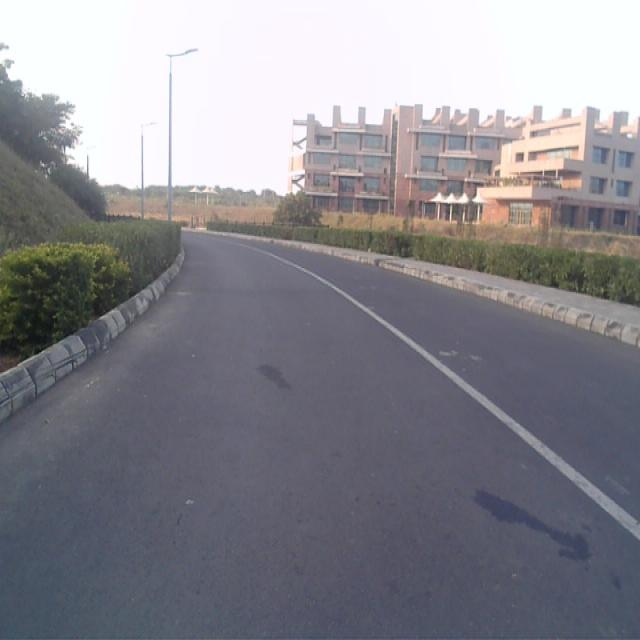lane: (0, 233, 640, 640)
